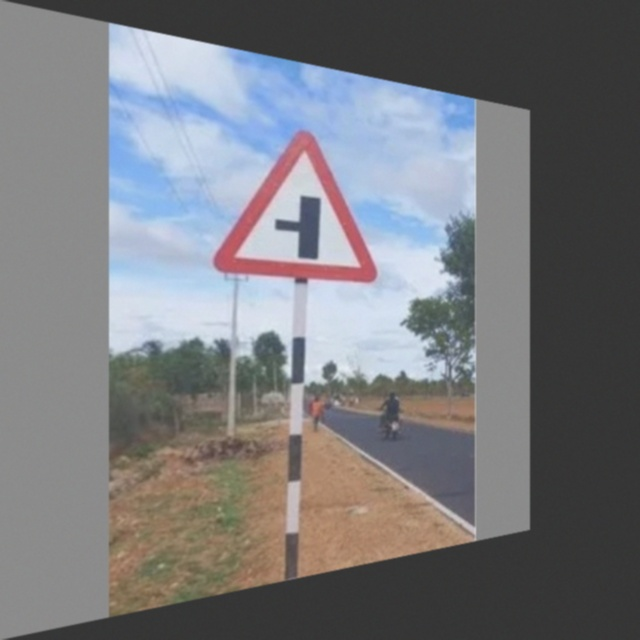Side_Road_Left: (216, 118, 378, 288)
